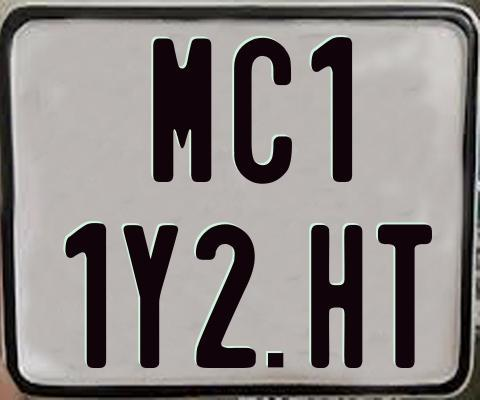1: (64, 220, 110, 365), (311, 37, 355, 186)
2: (196, 221, 258, 365)
C: (231, 37, 293, 189)
H: (310, 225, 366, 368)
M: (152, 38, 212, 183)
T: (376, 222, 431, 369)
Y: (121, 224, 179, 372)
